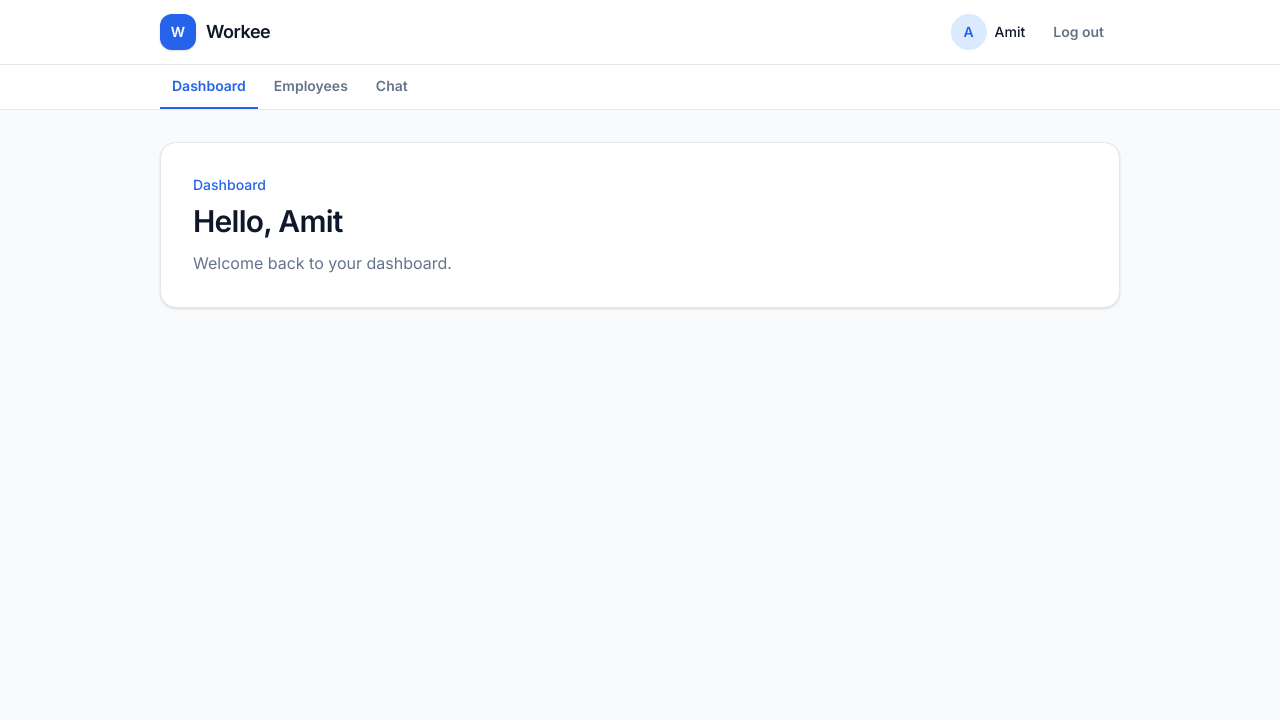
Dashboard page › opens the chat screen from the Chat tab
Click the link "Chat".
click(392, 86)  # box [376,77,408,94]
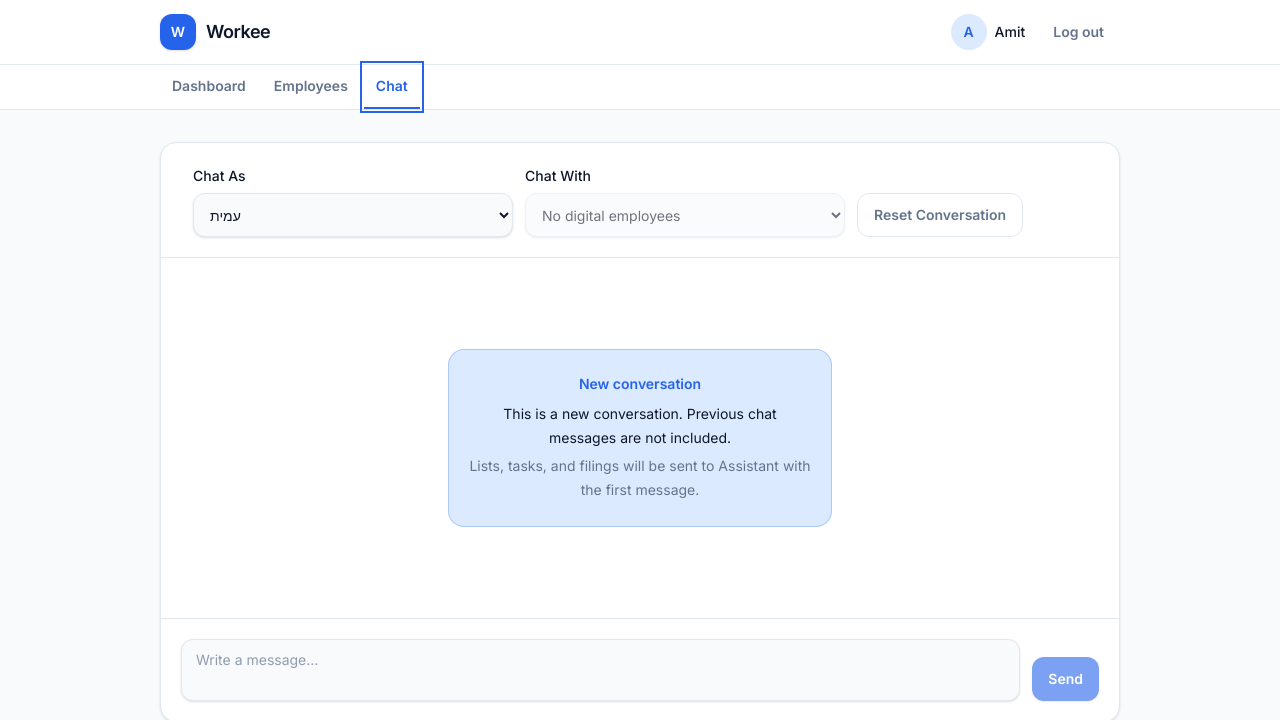
Expected: the element with test id "chat-page" is shown
Expected: the dropdown labelled "Chat As" is shown, [193,193,513,237]
